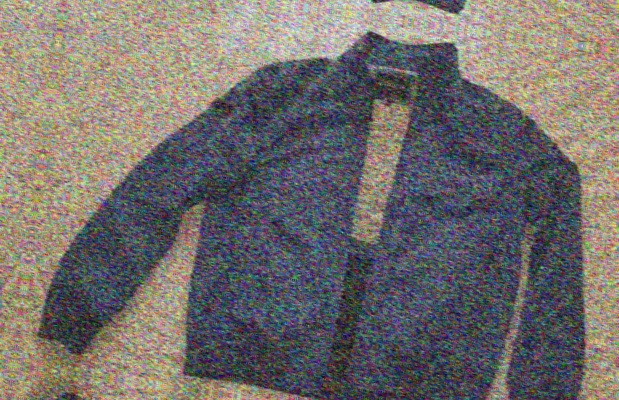Blazer: (31, 0, 619, 400), (86, 0, 619, 34), (0, 0, 49, 348), (0, 384, 591, 400)
